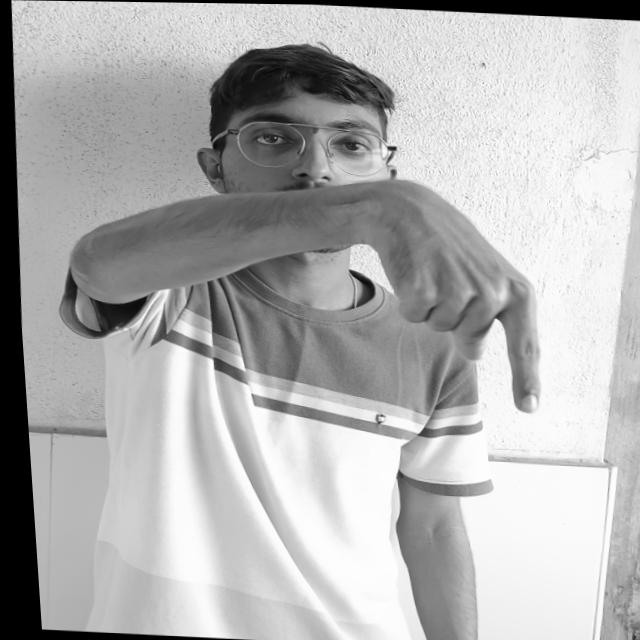Now: (272, 158, 601, 426)
